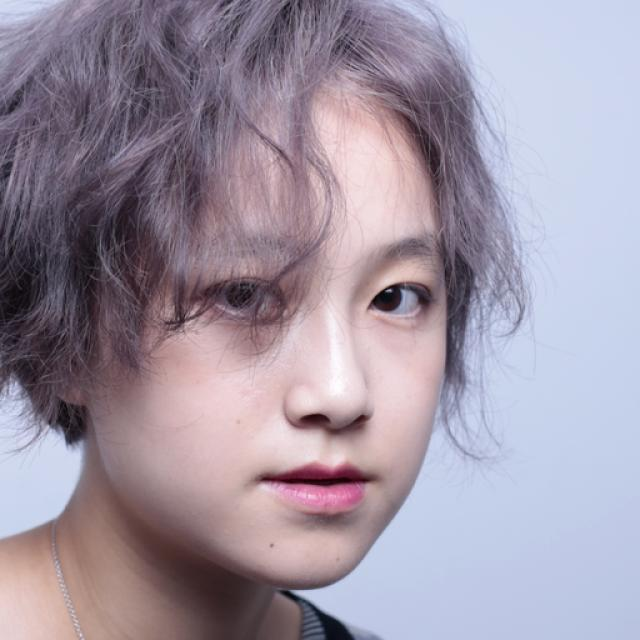neutral: (92, 64, 451, 592)
